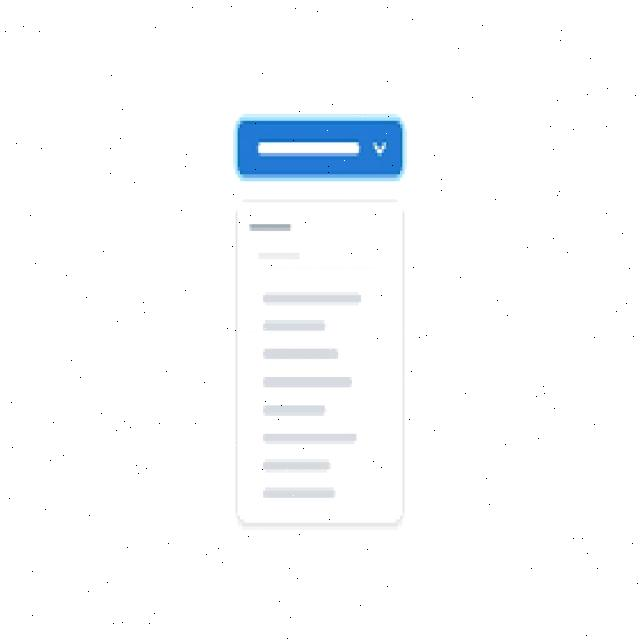checkbox: (246, 372, 259, 392), (245, 344, 259, 362), (246, 429, 259, 446), (246, 401, 258, 419), (247, 483, 258, 502), (246, 290, 258, 306), (246, 318, 258, 334), (246, 457, 258, 473)
dropdownMenu: (234, 114, 406, 532)
menuItem: (247, 241, 393, 272), (244, 288, 366, 310), (244, 370, 354, 394), (243, 427, 359, 449), (245, 481, 338, 505), (244, 342, 342, 364), (244, 399, 330, 421), (243, 455, 334, 475), (243, 316, 331, 336)
